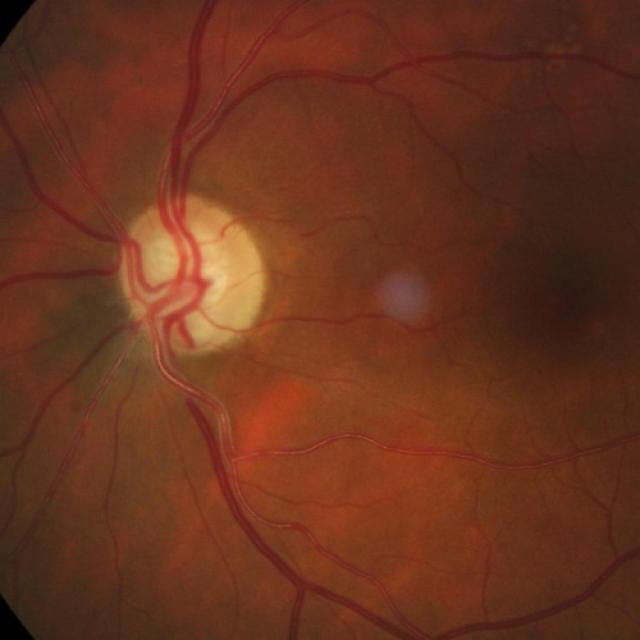OC: (141, 225, 225, 308)
OD: (120, 198, 266, 354)
